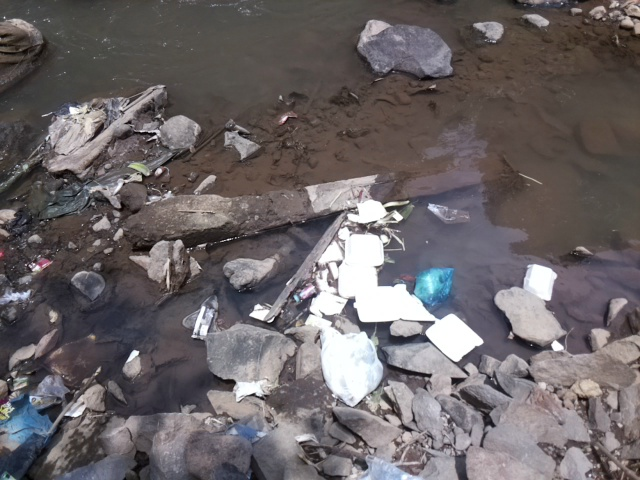Sampah_Botol_Plastik: (290, 283, 320, 301)
Sampah_Plastik: (319, 331, 387, 402), (409, 264, 456, 305), (190, 302, 215, 343)
Sampah_Styrofoam: (338, 228, 426, 323), (423, 313, 486, 361), (522, 260, 557, 302), (344, 199, 390, 223), (311, 293, 347, 320)
